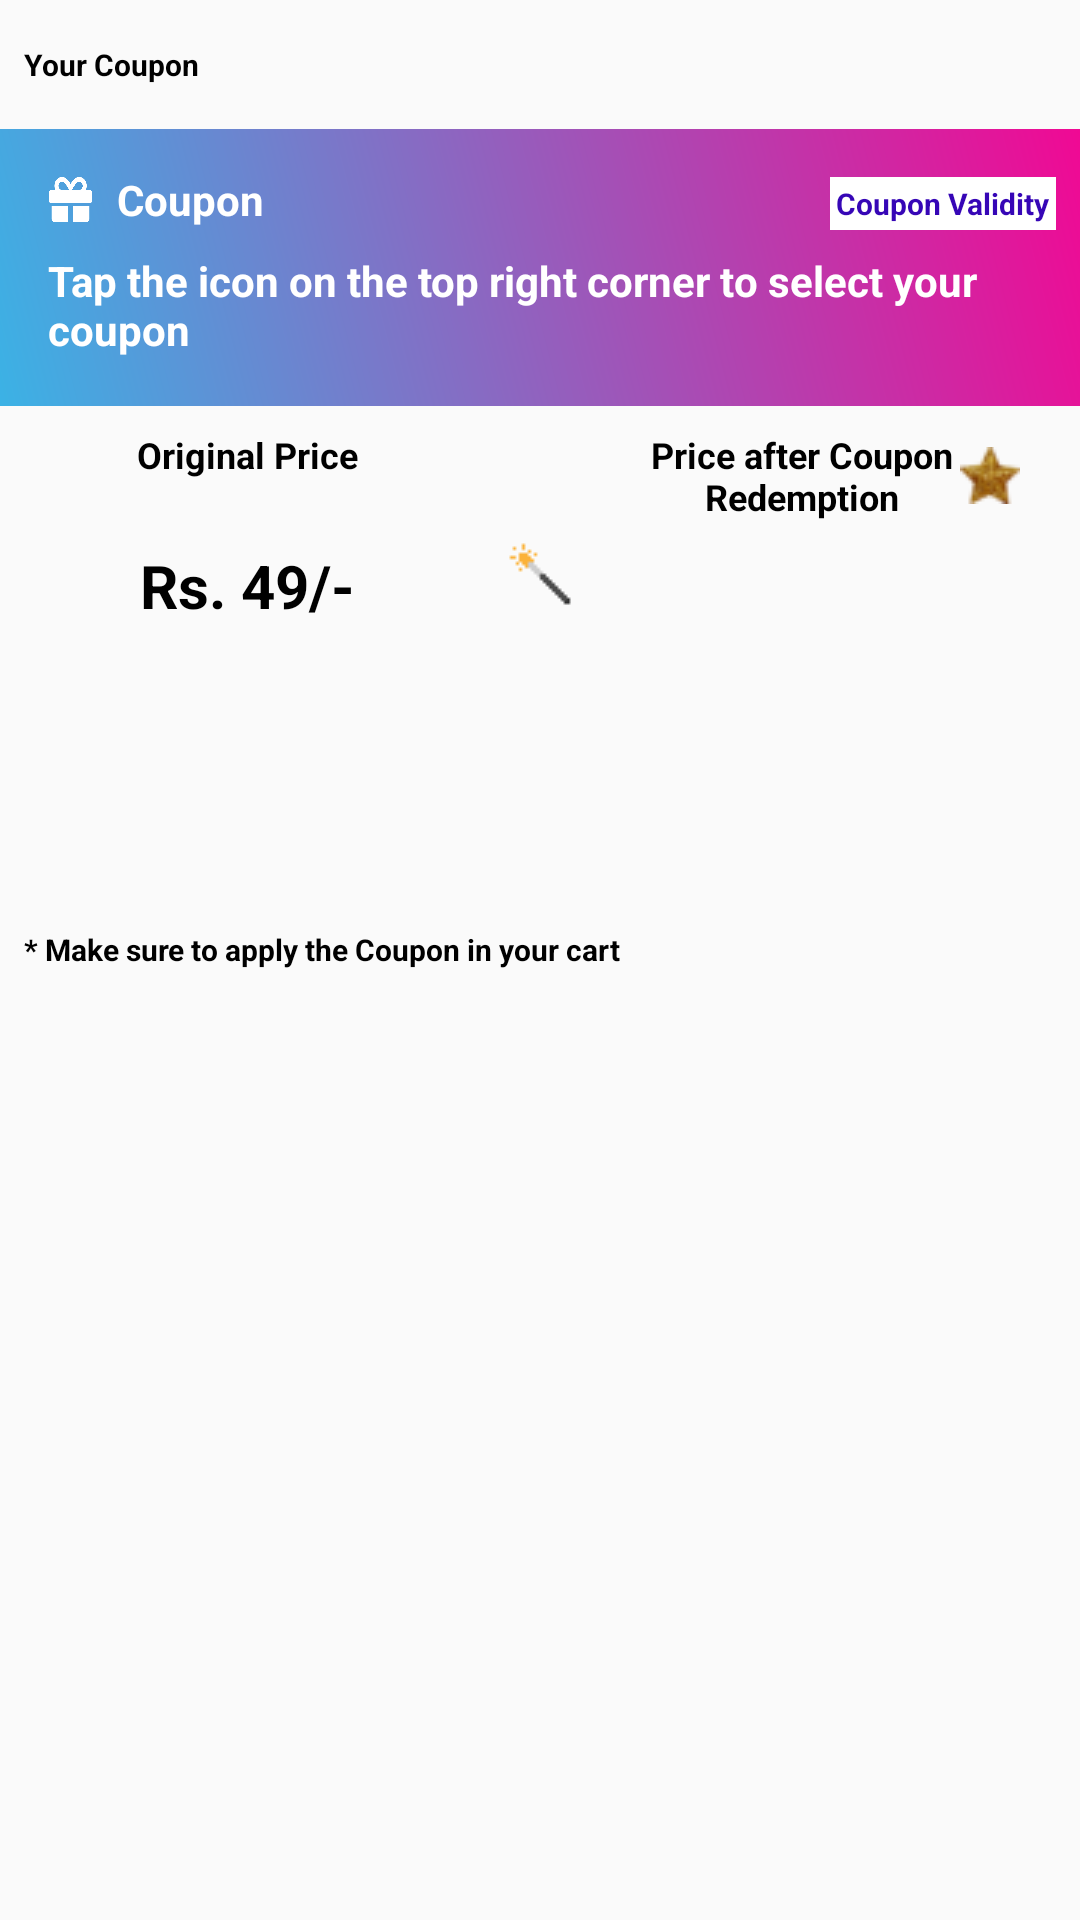

Where icons sit on this 1080px x 1920px app screen, as (x1, y1, x2, y2):
magicstick: (509, 543, 571, 605)
